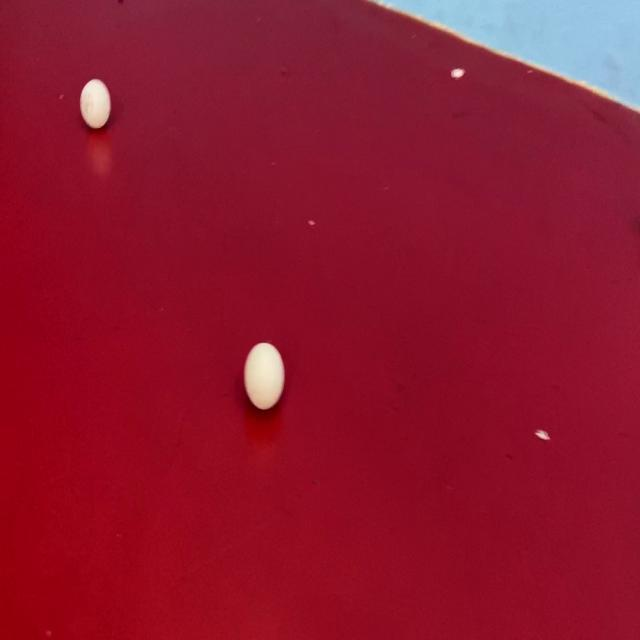ping-pong-ball: (230, 320, 294, 424), (70, 63, 116, 138)
